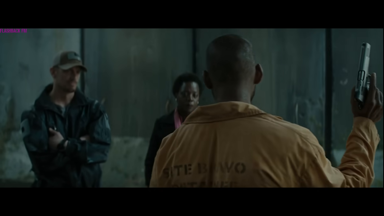firearm: (354, 42, 373, 107)
